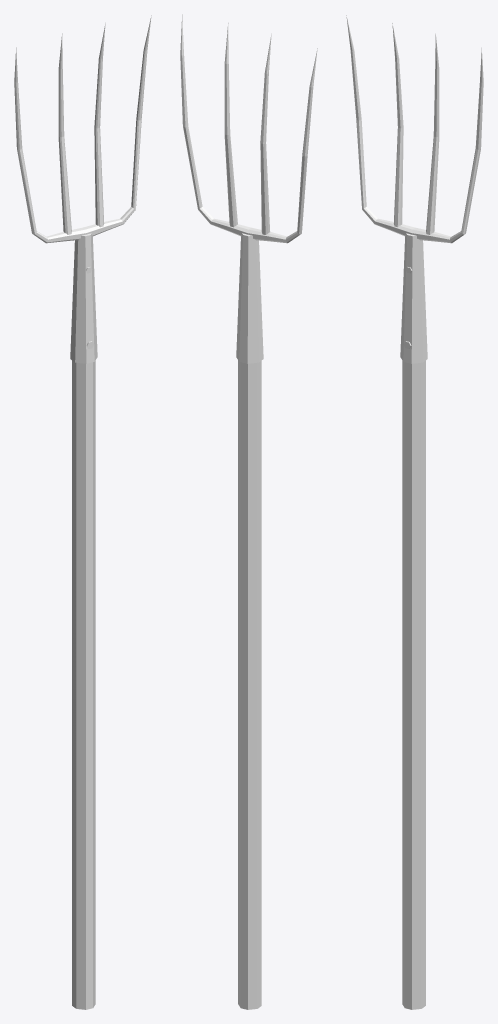
The model's file is Tool_Pitchfork_01.glb.
3 views of the same model, side by side, from view 1: azimuth 30°, elevation 25°; view 2: azimuth 150°, elevation 25°; view 3: azimuth 330°, elevation 25° (orthographic).
Parts seen in each view (by area): view 1: Tool_Pitchfork_01; view 2: Tool_Pitchfork_01; view 3: Tool_Pitchfork_01.
Part boxes in pixels (x1,y1,x2,y2): Tool_Pitchfork_01: [14, 15, 151, 1009]; Tool_Pitchfork_01: [180, 14, 317, 1009]; Tool_Pitchfork_01: [346, 15, 483, 1009].
Size of the model in its own units: 0.261 by 1.8 by 0.0445.
Materials: 1 (1 with a texture image).
